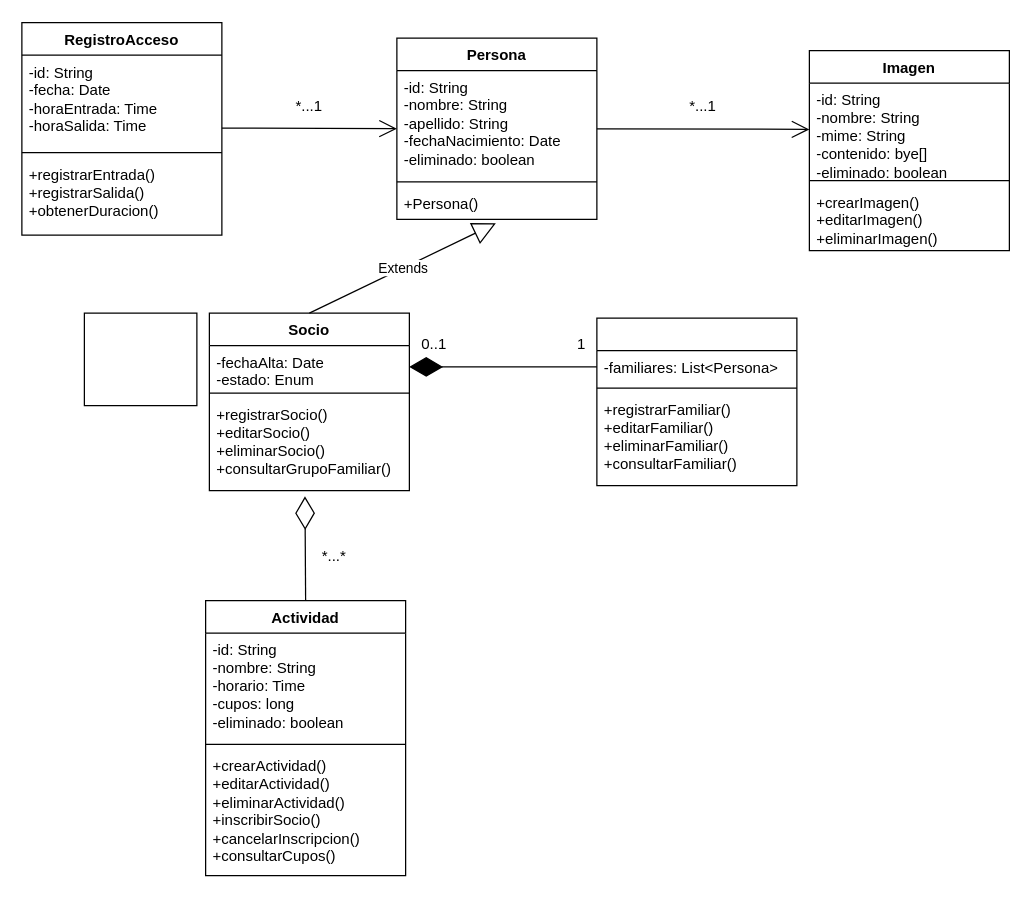
This 1031x900 diagram has some shape labels left out. Here are the shapes that lost their labels. From the top down, the box of each, then its label:
(83, 312, 197, 406): ENUM ACTIVO INACTIVO
(596, 317, 797, 486): GrupoFamiliar
